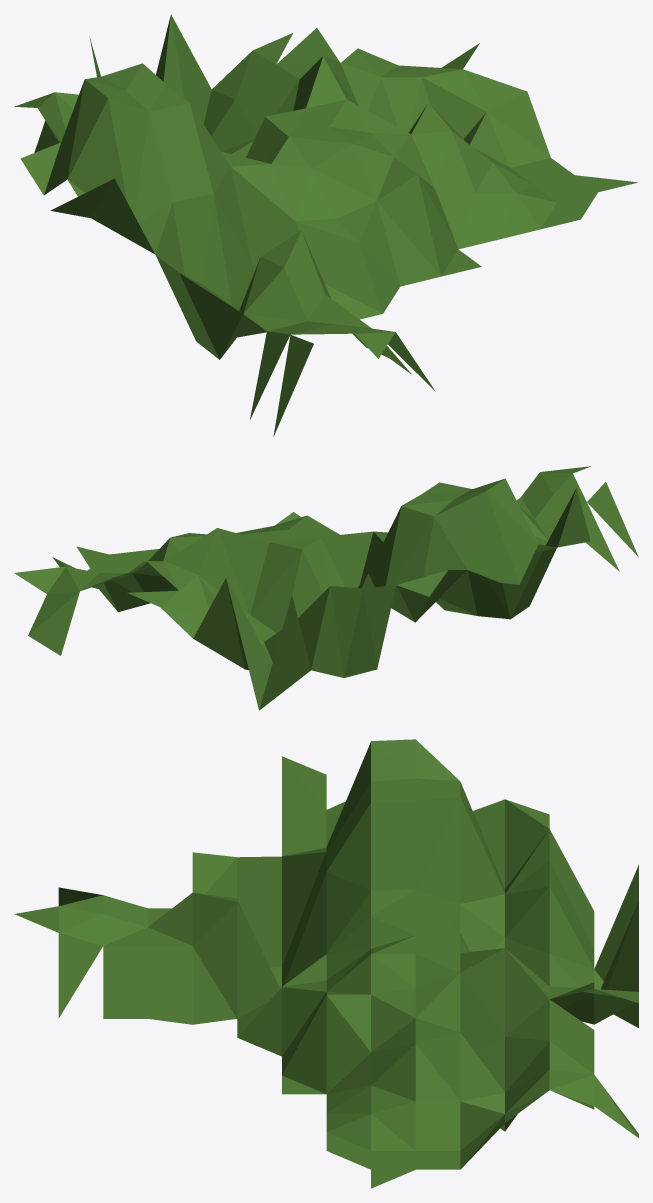
Rendered from TerrainExport.fbx.
The picture shows the model from 3 angles, top to bottom: view 1: azimuth 30°, elevation 25°; view 2: azimuth 150°, elevation 25°; view 3: azimuth 270°, elevation 25°; orthographic projection. The views are drawn at different scales.
Visible parts, largest first — view 1: TerrainVertex:Mesh; view 2: TerrainVertex:Mesh; view 3: TerrainVertex:Mesh.
Boxes of the visible parts, x1=… form: TerrainVertex:Mesh: x1=14, y1=14, x2=638, y2=436; TerrainVertex:Mesh: x1=14, y1=466, x2=638, y2=710; TerrainVertex:Mesh: x1=14, y1=739, x2=638, y2=1188.
Size of the model in its own units: 140 by 50.23 by 131.
